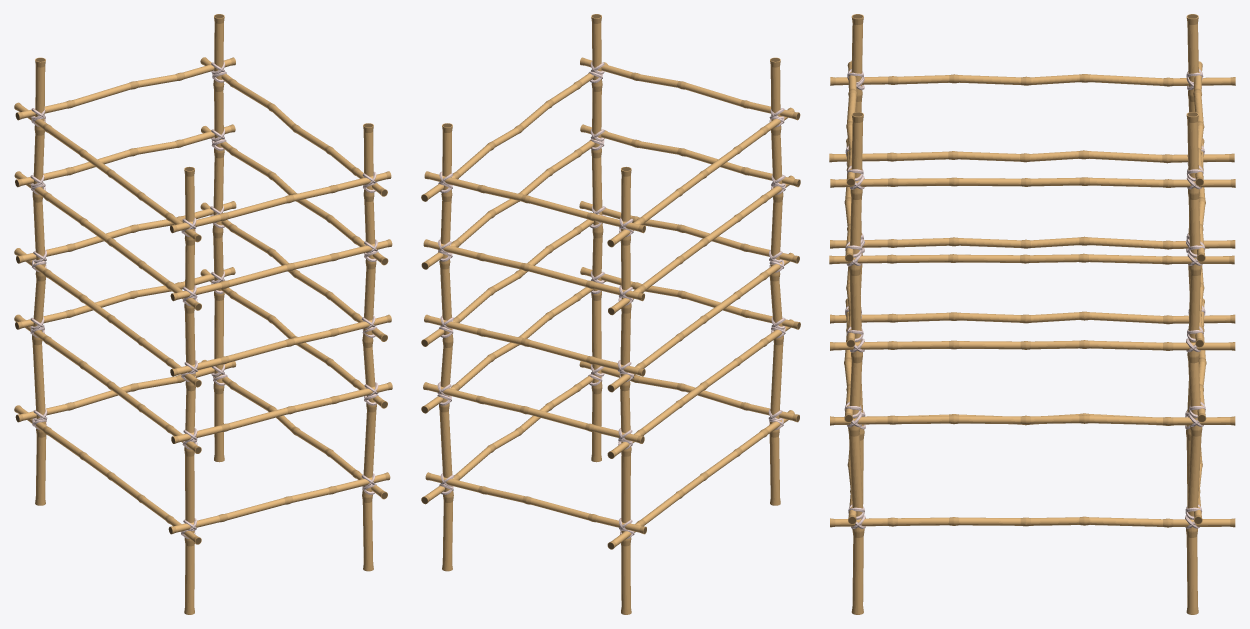
Rendered from Scaffolding.fbx.
3 views of the same model, side by side, from view 1: azimuth 30°, elevation 25°; view 2: azimuth 150°, elevation 25°; view 3: azimuth 270°, elevation 25° (orthographic). The views are drawn at different scales.
Visible parts, largest first — view 1: Cylinder.012, Torus.021, Cylinder.000; view 2: Cylinder.012, Torus.021, Cylinder.000; view 3: Torus.021, Cylinder.000, Cylinder.012.
Boxes of the visible parts, left/top/right/bottom form: Cylinder.012: left=15, top=57, right=392, bottom=534; Torus.021: left=14, top=57, right=388, bottom=544; Cylinder.000: left=32, top=14, right=376, bottom=614; Cylinder.012: left=423, top=57, right=800, bottom=534; Torus.021: left=421, top=62, right=794, bottom=549; Cylinder.000: left=439, top=14, right=783, bottom=614; Torus.021: left=829, top=74, right=1235, bottom=528; Cylinder.000: left=848, top=14, right=1202, bottom=614; Cylinder.012: left=844, top=61, right=1206, bottom=524.
Bounding box in the file's own units: 478 × 931 × 688.
